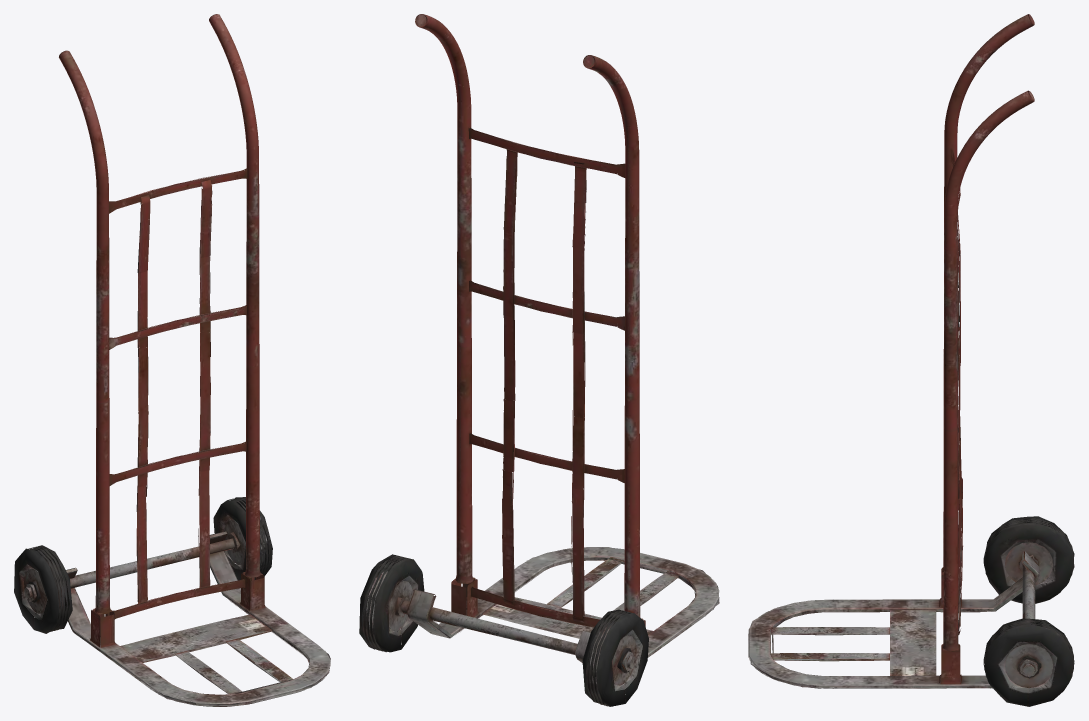
File: ph_hand_truck.glb
3 renders of one model, left to right at view 1: azimuth 30°, elevation 25°; view 2: azimuth 150°, elevation 25°; view 3: azimuth 270°, elevation 25°, orthographic. The views are drawn at different scales.
Visible parts, largest first — view 1: hand_truck; view 2: hand_truck; view 3: hand_truck.
Part boxes in pixels (box(x1,y1,x2,y2)): hand_truck: box(14, 14, 330, 706); hand_truck: box(359, 14, 719, 706); hand_truck: box(748, 14, 1074, 706).
Size of the model in its own units: 0.5933 by 1.4 by 0.6932.
1 material, 1 textured.
